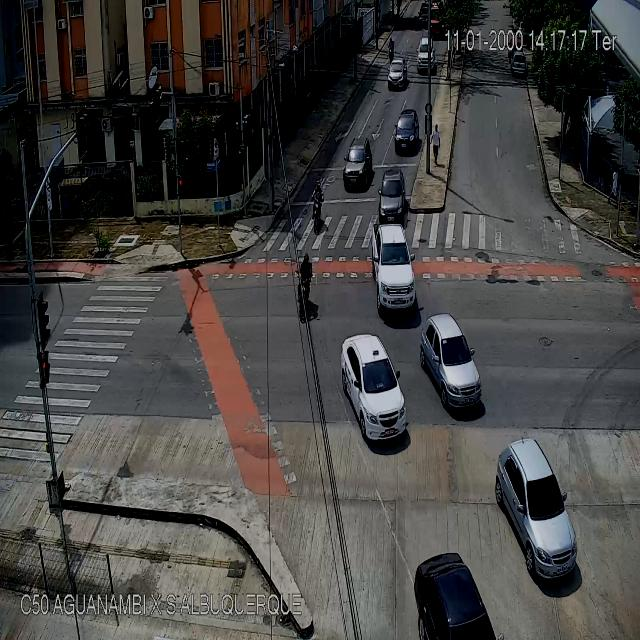Car: (496, 438, 578, 582), (414, 550, 502, 640), (340, 335, 409, 443), (420, 314, 482, 408), (370, 217, 416, 306), (378, 167, 408, 222), (343, 139, 371, 189), (395, 108, 419, 152), (387, 59, 408, 92), (417, 38, 435, 73), (511, 52, 526, 76), (418, 6, 428, 26)
Motorcycle: (300, 256, 312, 322), (312, 180, 324, 236), (388, 39, 395, 65)
Truck: (431, 9, 445, 34)
